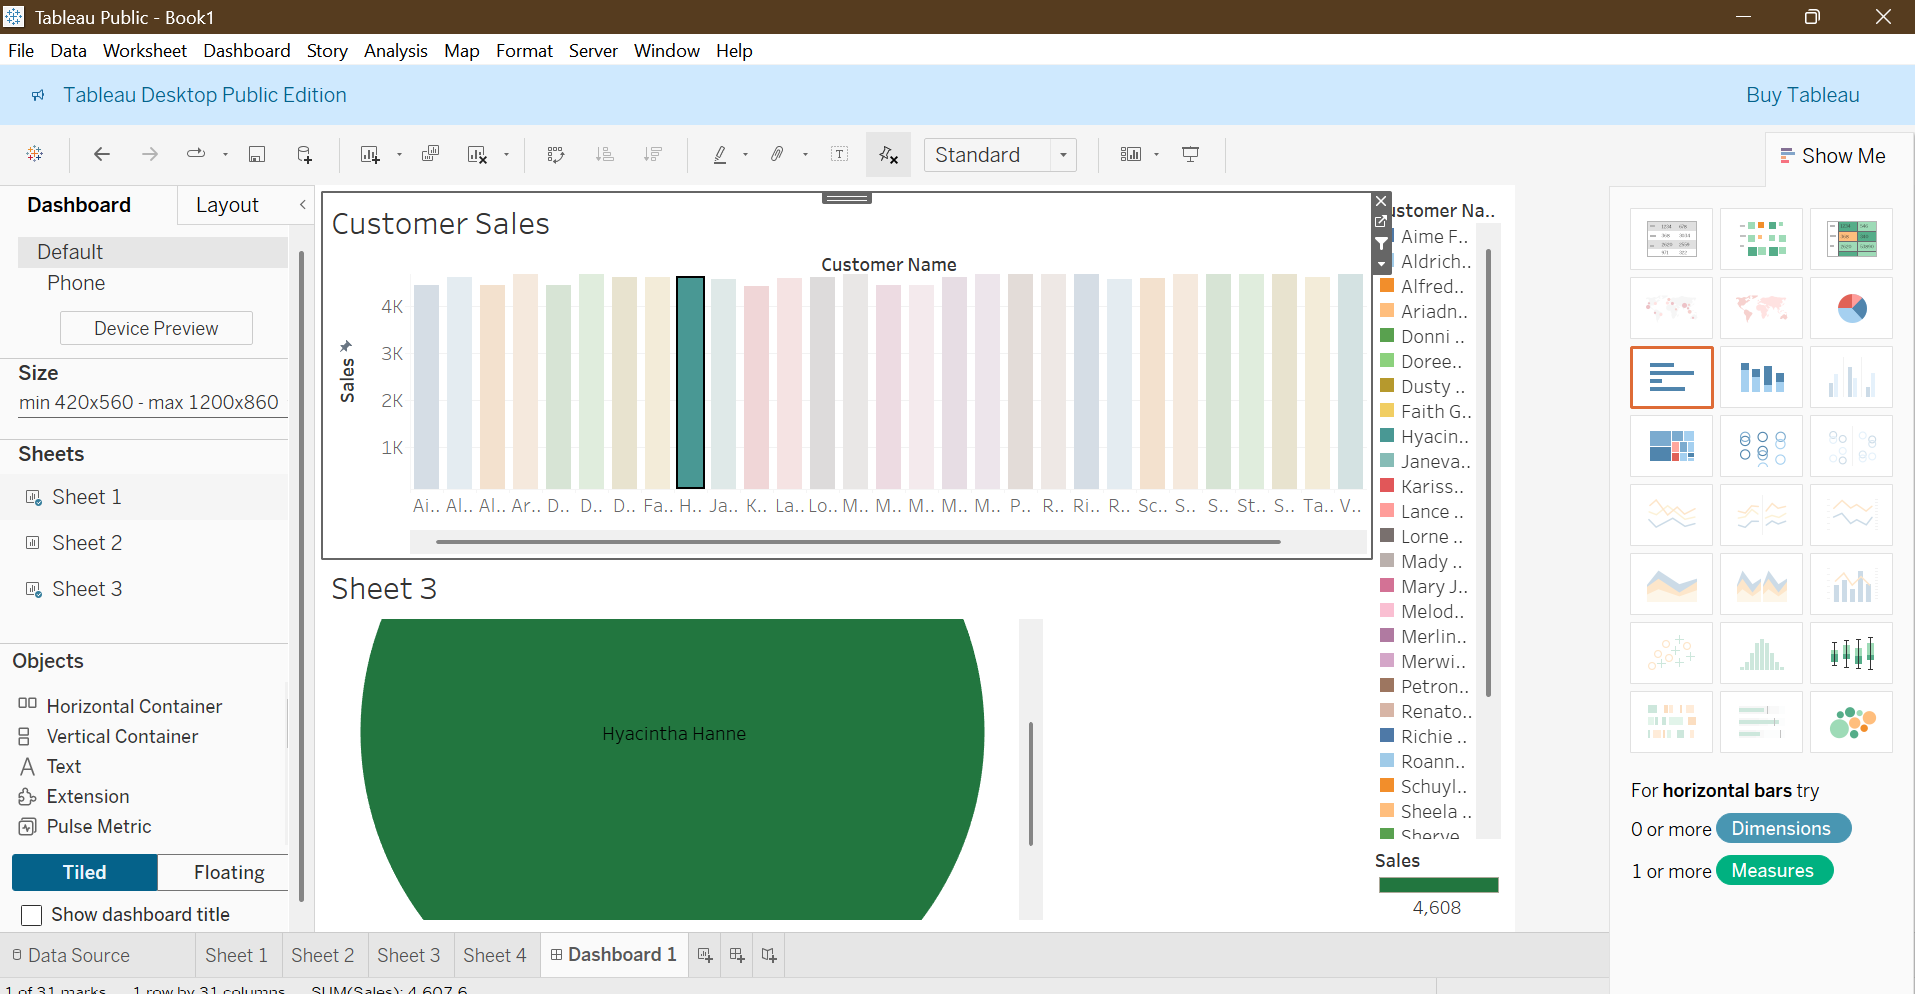

This screenshot's page, from the dashboard's own definition file:
{"tool":"tableau","page":{"name":"Dashboard 1","canvas":[1000,1000],"units":"permille","ordinal":0},"visuals":[{"type":"worksheet","title":"Sheet 1","mark":"Automatic","rows":["Sales"],"cols":["Customer Name"],"box":[6.7,10.7,873.3,489.3]},{"type":"legend","title":"Sheet 1","param":"[federated.1d1hbyz0etjrek19yblag15g8bda].[none:Customer Name:nk]","box":[880,10.7,113.3,870.1]},{"type":"worksheet","title":"Sheet 3","mark":"Circle","box":[6.7,500,873.3,489.3]},{"type":"legend","title":"Sheet 3","param":"[federated.1d1hbyz0etjrek19yblag15g8bda].[sum:Sales:qk]","box":[880,880.9,113.3,108.4]}]}

Visuals, with their boxes on the dashboard's canvas, which has no fixed pixel size, in thousandths of its width and height (x1, y1, x2, y2). These are canvas units, not pixel positions in the 1915x994 screenshot, which may show the page scaled, cropped or inside an application window:
"Sheet 1" worksheet: crop(7, 11, 880, 500)
"Sheet 1" legend: crop(880, 11, 993, 881)
"Sheet 3" worksheet (Circle marks): crop(7, 500, 880, 989)
"Sheet 3" legend: crop(880, 881, 993, 989)
